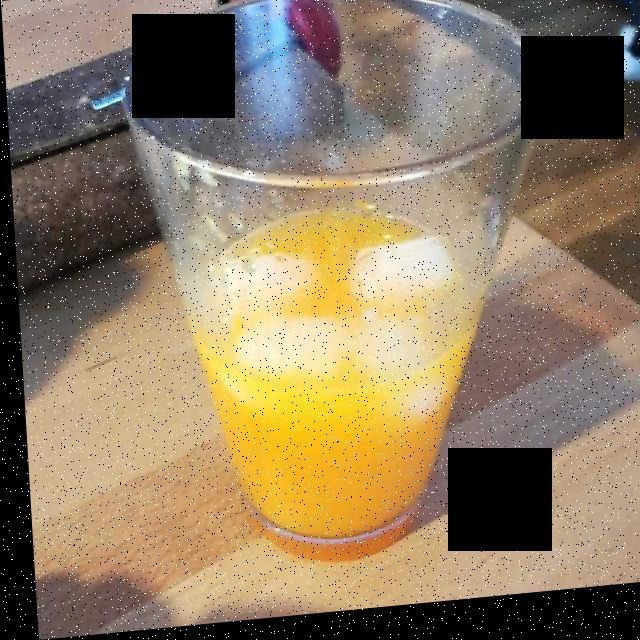juice: (182, 206, 488, 542)
